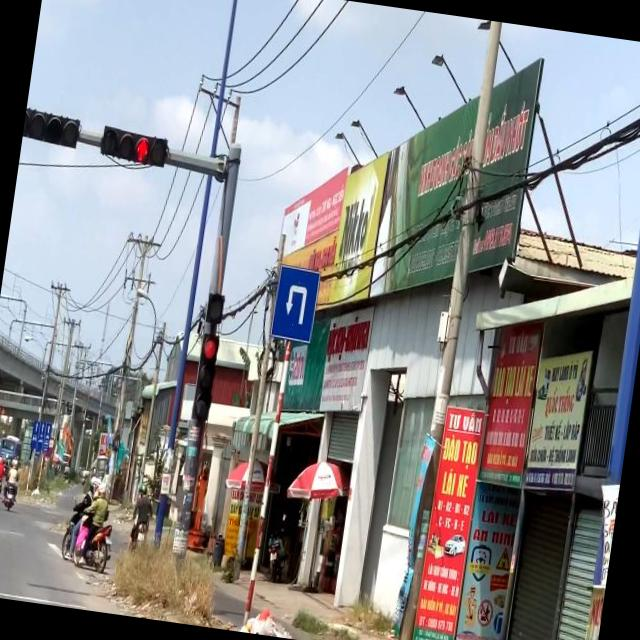I-409: (274, 262, 322, 342)
